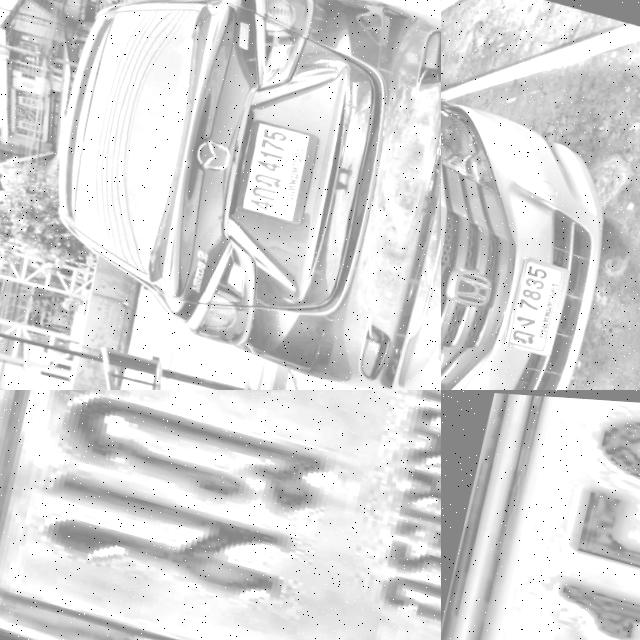license-plate: (0, 390, 441, 640), (441, 390, 640, 640), (233, 109, 321, 222), (501, 247, 574, 353)
